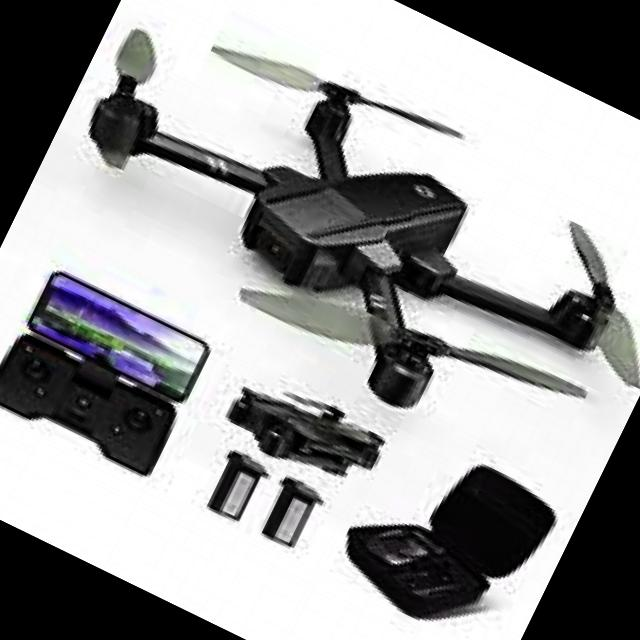drone: (12, 0, 640, 502)
